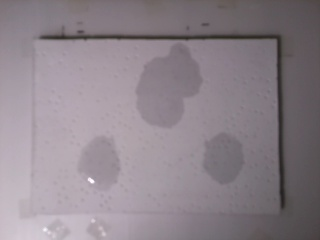Water_detected: (138, 52, 192, 122), (85, 146, 118, 187), (206, 143, 230, 166)
